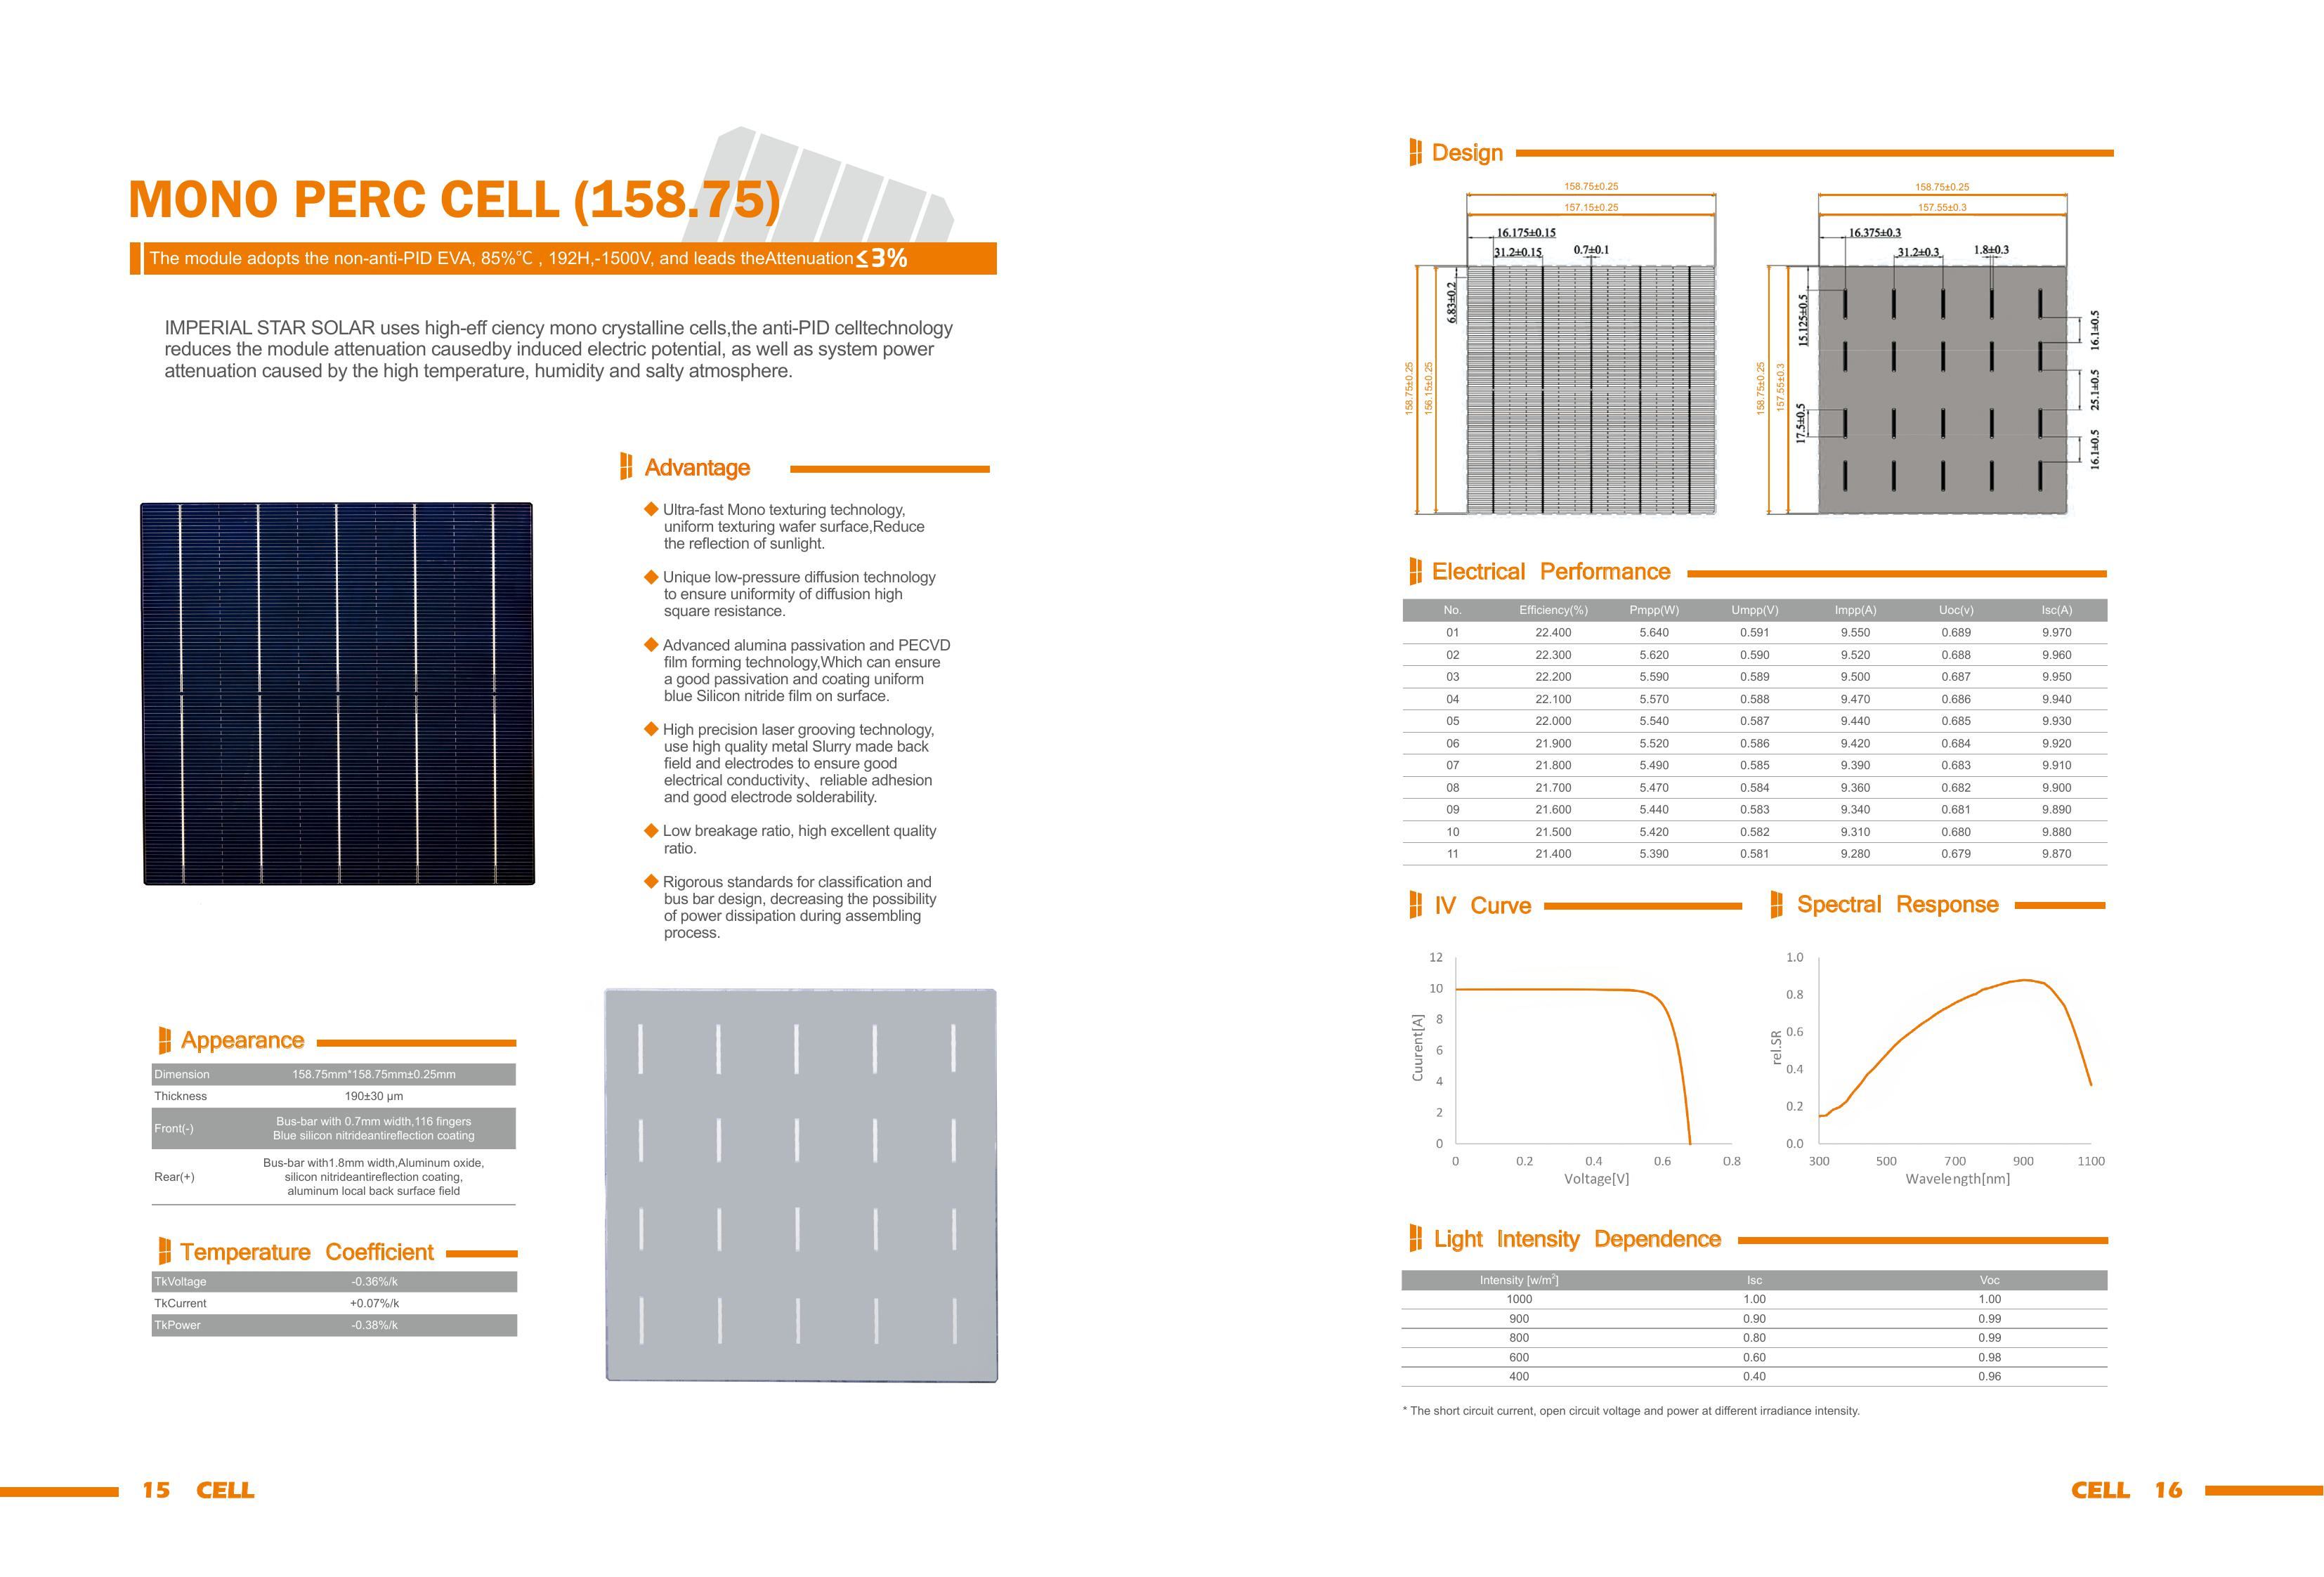table: (1396, 593, 2120, 873), (1394, 1264, 2132, 1392)
